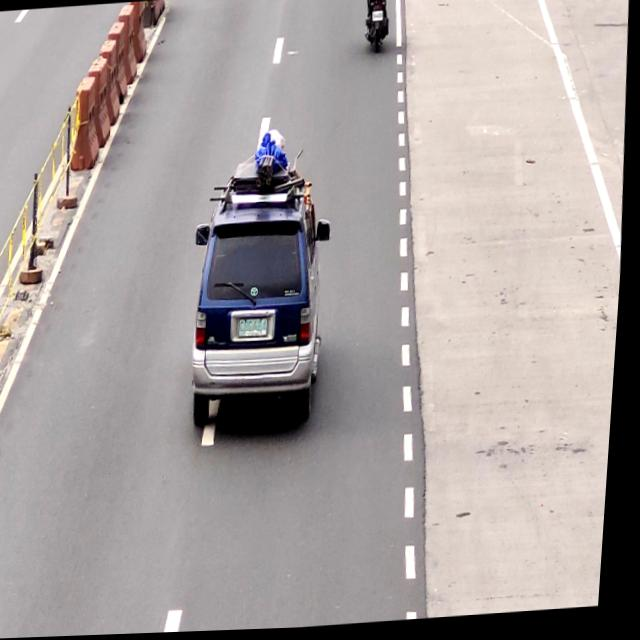Car: (191, 187, 335, 426)
License-Plate: (241, 318, 274, 345), (370, 12, 385, 25)
Motorcycle: (361, 0, 395, 52)
